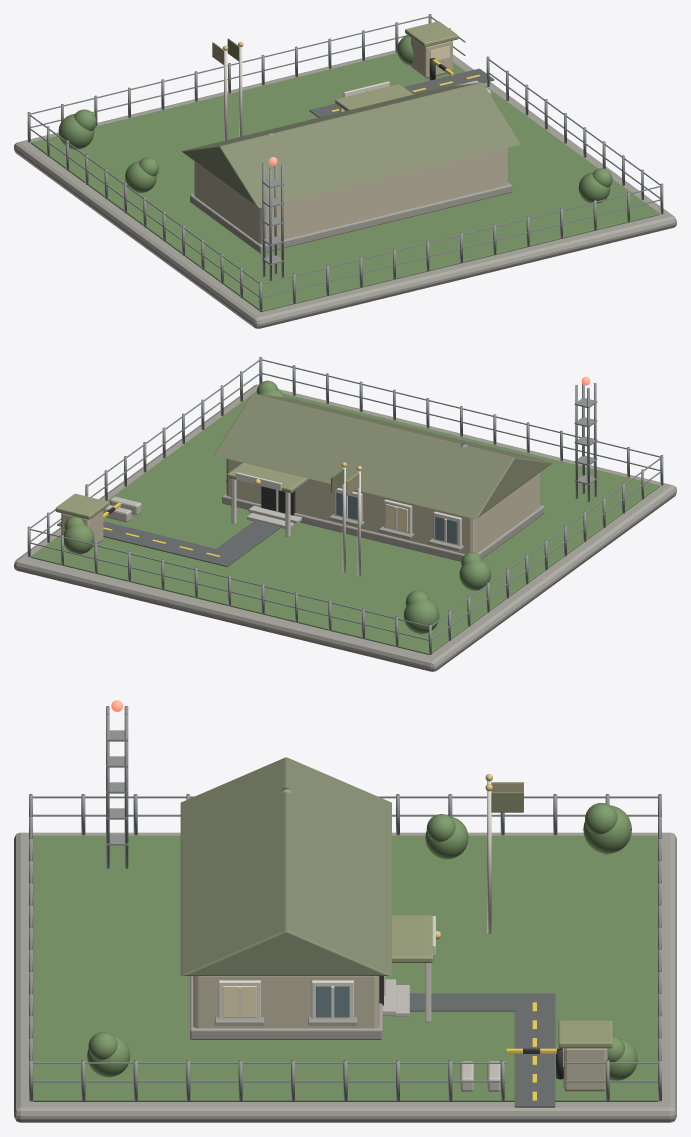
3 renders of one model, top to bottom at view 1: azimuth 30°, elevation 25°; view 2: azimuth 150°, elevation 25°; view 3: azimuth 270°, elevation 25°, orthographic. The views are drawn at different scales.
Parts seen in each view (by area): view 1: Cube.001, prism, Cube, Cube.018, Cube.019, Cube.003, Cube.042, Cube.010, Cube.011, Sphere.004, Cube.056, Cube.061 (+6 smaller); view 2: Cube.001, prism, Cube, Cube.018, Cube.019, Cube.003, Cube.002, Cube.042, Sphere.004, Cube.011, Cube.055, Cube.060 (+10 smaller); view 3: Cube.001, prism, Cube, Cube.018, Cube.003, Cube.019, Cube.002, Cube.042, Cube.010, Cube.011, Cube.059, Sphere.004 (+16 smaller).
Boxes of the visible parts, x1=… form: Cube.001: x1=31, y1=53, x2=659, y2=311; prism: x1=181, y1=82, x2=520, y2=207; Cube: x1=14, y1=50, x2=676, y2=328; Cube.018: x1=194, y1=147, x2=507, y2=244; Cube.019: x1=190, y1=182, x2=512, y2=253; Cube.003: x1=309, y1=68, x2=494, y2=117; Cube.042: x1=335, y1=84, x2=413, y2=110; Cube.010: x1=410, y1=37, x2=452, y2=78; Cube.011: x1=405, y1=21, x2=458, y2=47; Sphere.004: x1=58, y1=114, x2=94, y2=149; Cube.056: x1=262, y1=199, x2=660, y2=297; Cube.061: x1=262, y1=186, x2=660, y2=284; Cube.001: x1=31, y1=391, x2=659, y2=654; prism: x1=214, y1=393, x2=552, y2=519; Cube: x1=14, y1=384, x2=676, y2=671; Cube.018: x1=226, y1=459, x2=540, y2=554; Cube.019: x1=222, y1=493, x2=544, y2=561; Cube.003: x1=57, y1=521, x2=241, y2=566; Cube.002: x1=212, y1=520, x2=280, y2=556; Cube.042: x1=227, y1=462, x2=310, y2=493; Sphere.004: x1=403, y1=600, x2=439, y2=633; Cube.011: x1=55, y1=493, x2=108, y2=519; Cube.055: x1=30, y1=542, x2=428, y2=640; Cube.060: x1=30, y1=529, x2=428, y2=627; Cube.001: x1=32, y1=835, x2=658, y2=1101; prism: x1=180, y1=757, x2=391, y2=975; Cube: x1=14, y1=832, x2=676, y2=1122; Cube.018: x1=193, y1=976, x2=379, y2=1028; Cube.003: x1=514, y1=993, x2=555, y2=1107; Cube.019: x1=190, y1=976, x2=382, y2=1039; Cube.002: x1=409, y1=993, x2=527, y2=1011; Cube.042: x1=392, y1=915, x2=433, y2=962; Cube.010: x1=563, y1=1048, x2=607, y2=1091; Cube.011: x1=558, y1=1020, x2=612, y2=1048; Cube.059: x1=32, y1=1080, x2=506, y2=1082; Sphere.004: x1=583, y1=805, x2=631, y2=853.
Size of the model in its own units: 3.92 by 1.18 by 3.92.
